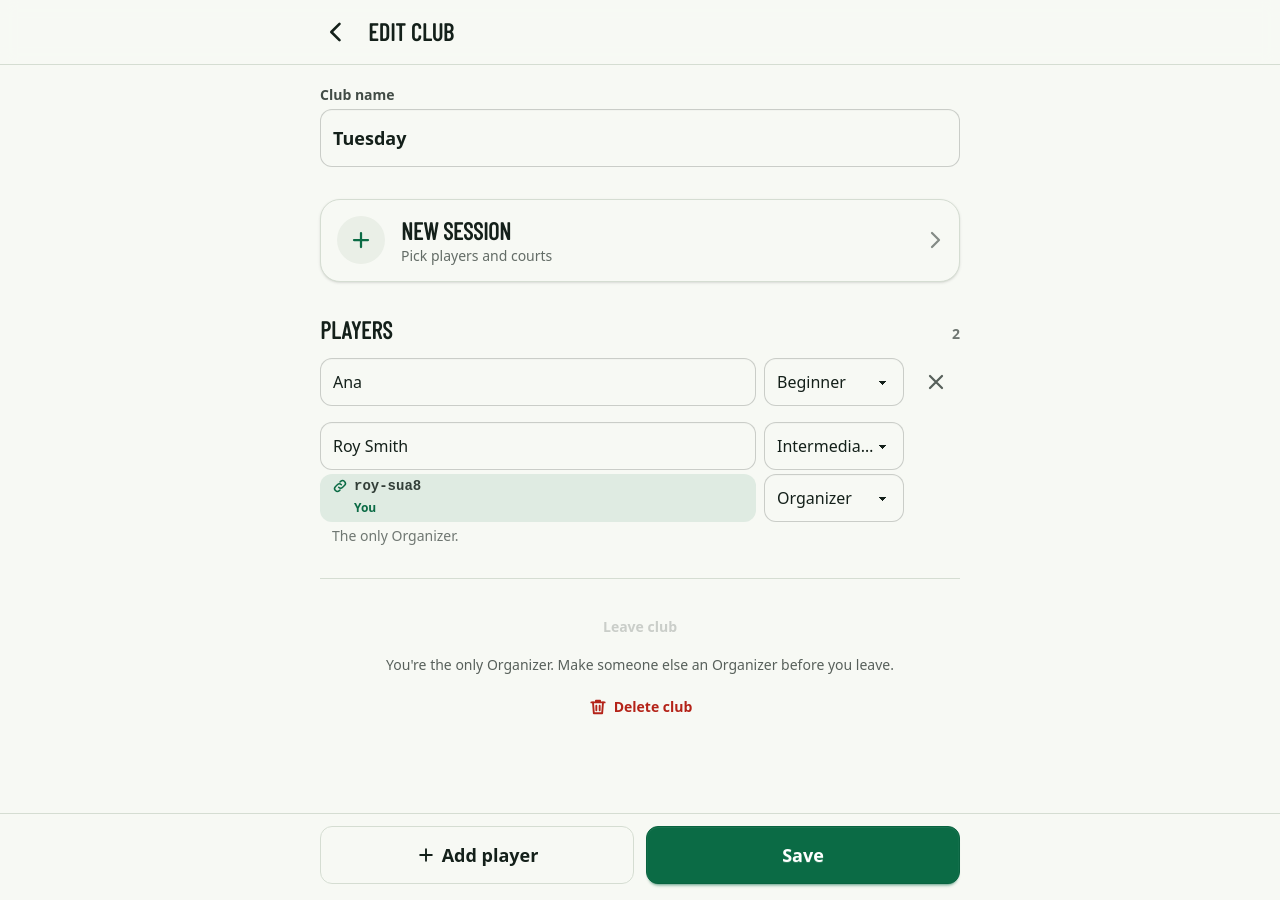
Test: Club screens with Accounts › editing a Shared club › while the server answers › Save shows it's busy, locks the form and Back, and after a failure is normal again
Replace the text in the field labelled "Club name" with "Friday" at (640, 138), box [320,109,960,167]
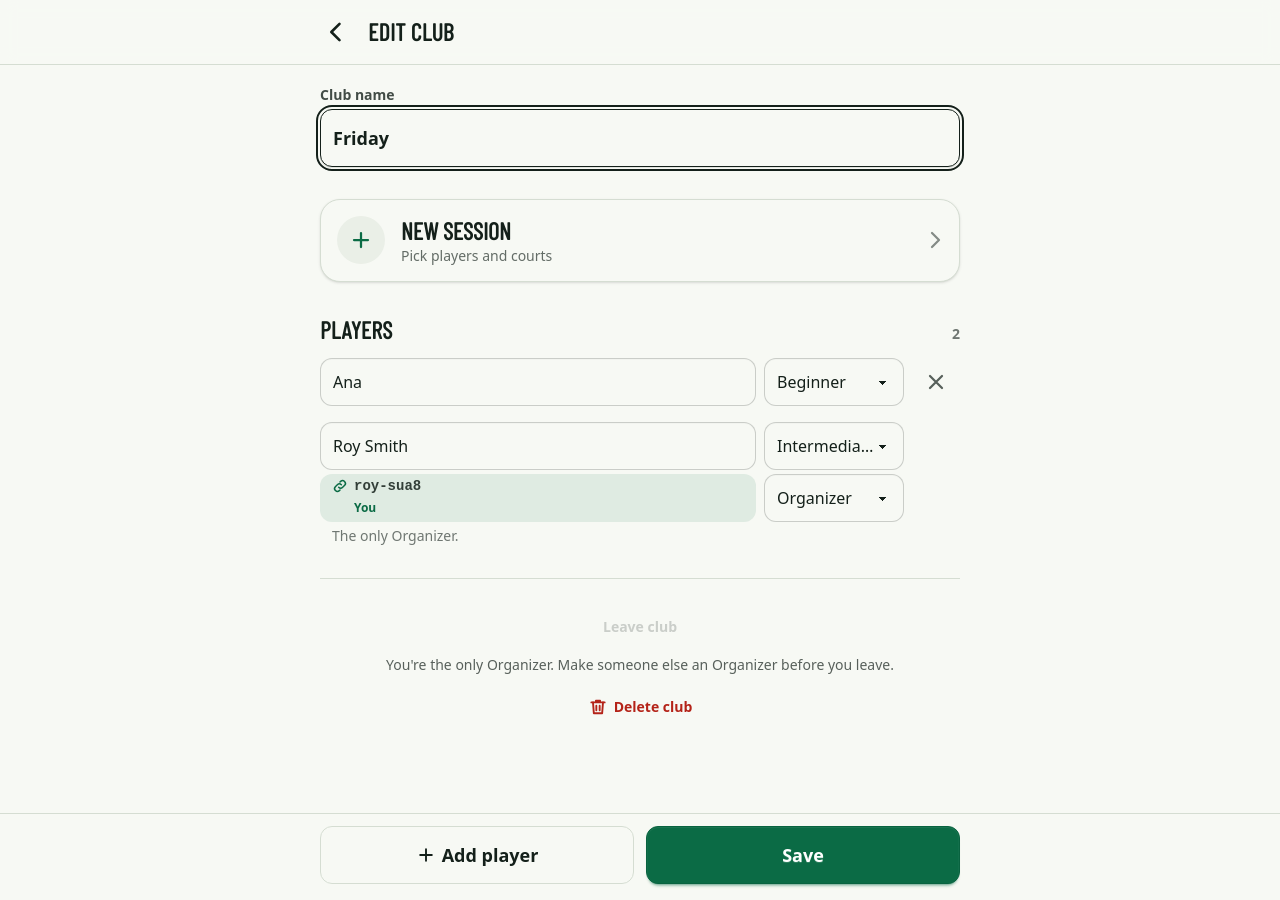
Click the button "Save".
click(803, 855)  # box [646,826,960,884]
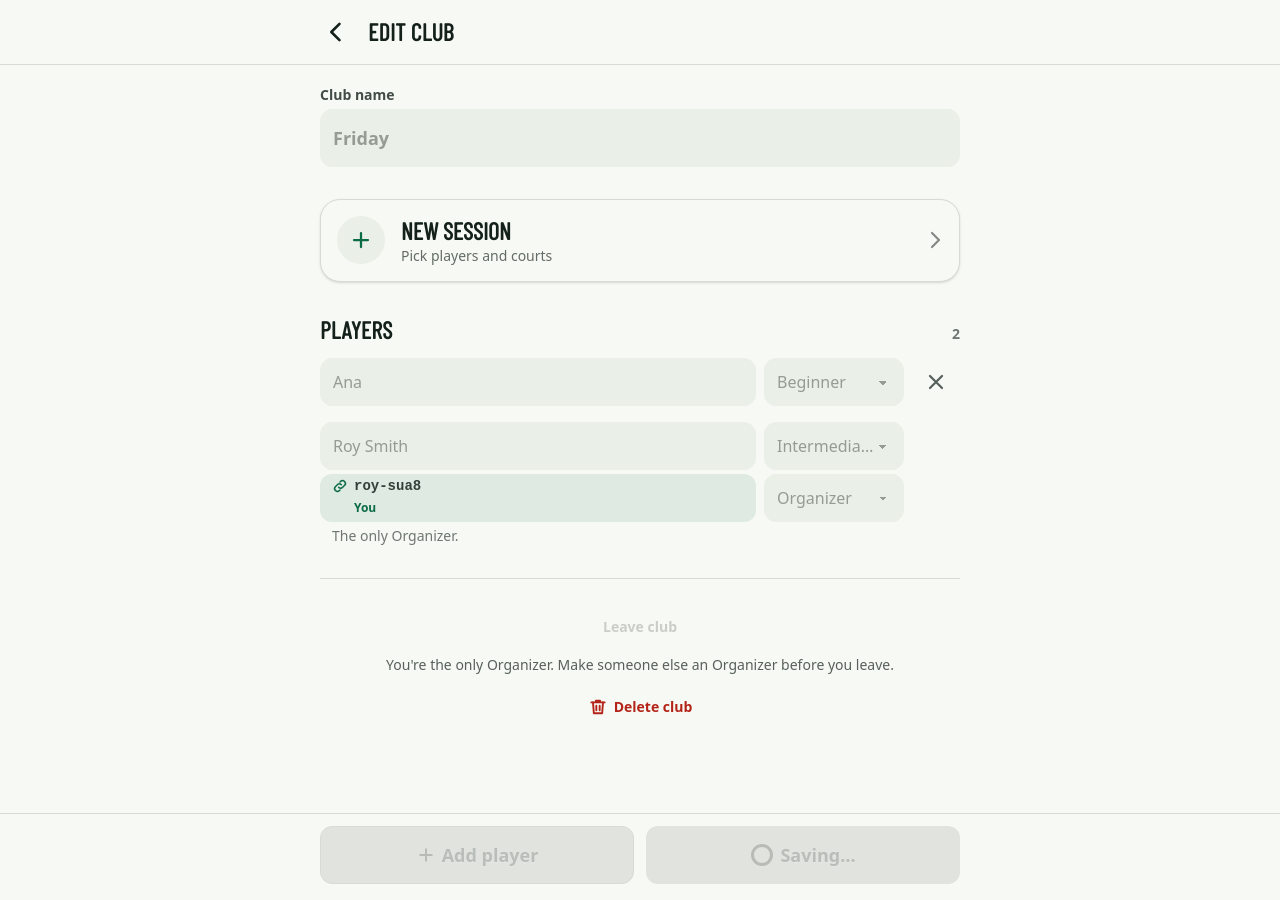
Expected: the field labelled "Club name" is disabled, [320,109,960,167]
Expected: the button "Saving…" is disabled, [646,826,960,884]
Expected: the button "Add player" is disabled, [320,826,634,884]
# Back does nothing, not even the discard question.
Click the button named "Back".
click(336, 32)  # box [312,8,360,56]
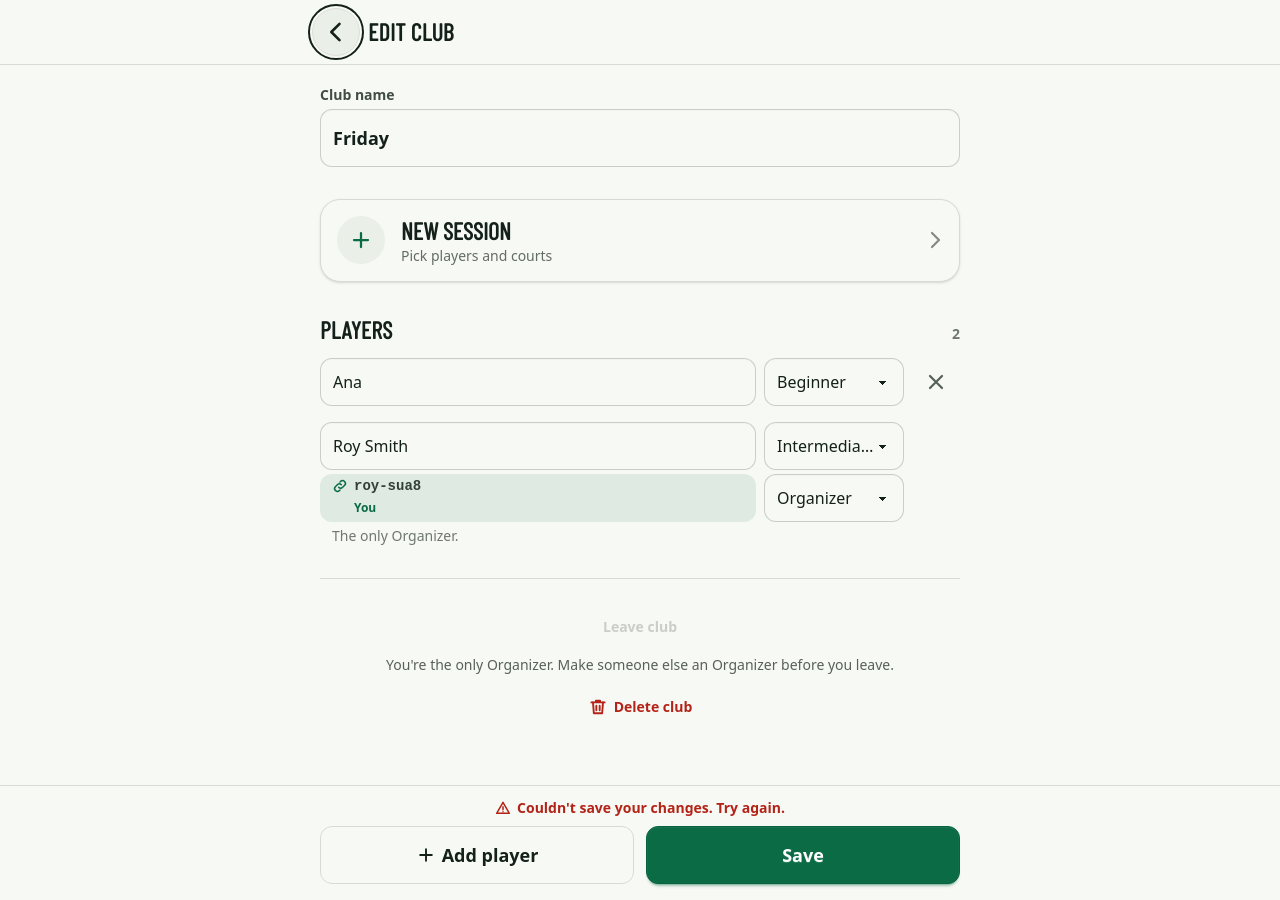
Expected: the message reads "Couldn't save your changes. Try again.", [517,798,785,817]
Expected: the button "Save" is enabled, [646,826,960,884]
Expected: the button "Add player" is enabled, [320,826,634,884]
